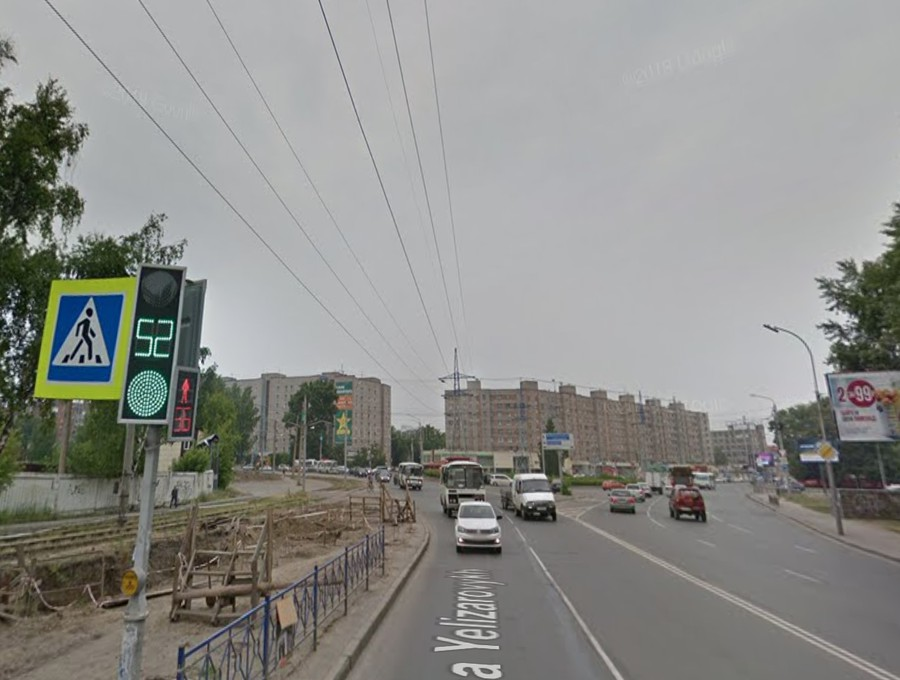Traffic Light-red: (171, 362, 206, 447)
